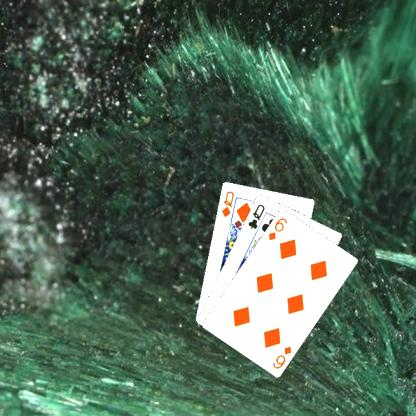6D: (265, 214, 289, 242), (270, 343, 292, 370)
QC: (245, 201, 266, 230)
QD: (218, 188, 235, 218)
